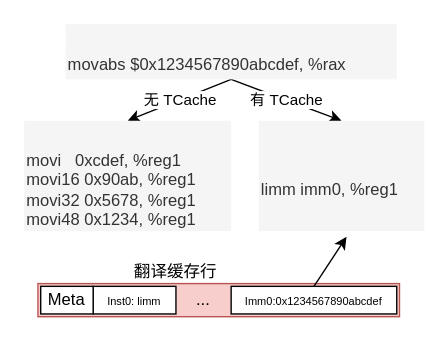
Some shapes in this 447 by 341 pixel diagram are drawn without their labels. Each missing label, with the box of its shape:
传统BT: (23, 120, 230, 148)
客户代码: (65, 23, 396, 51)
微译器: (258, 120, 424, 148)
